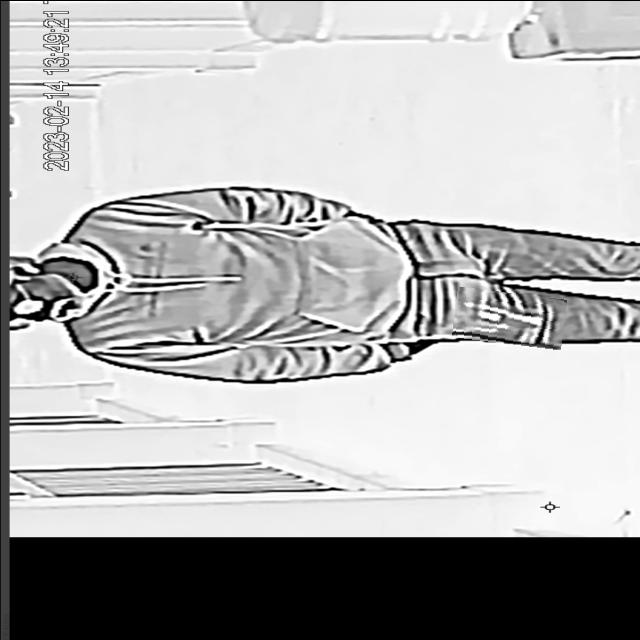Weapon: (454, 288, 566, 346)
